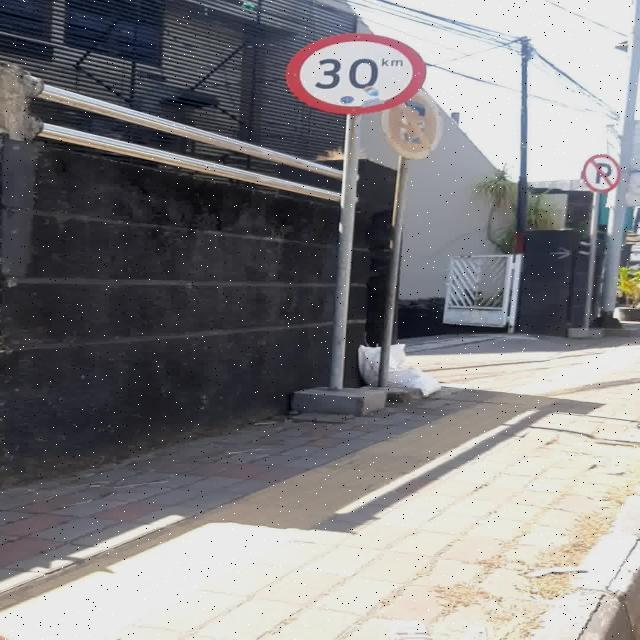Kecepatan Maks. 30 km: (286, 32, 428, 115)
